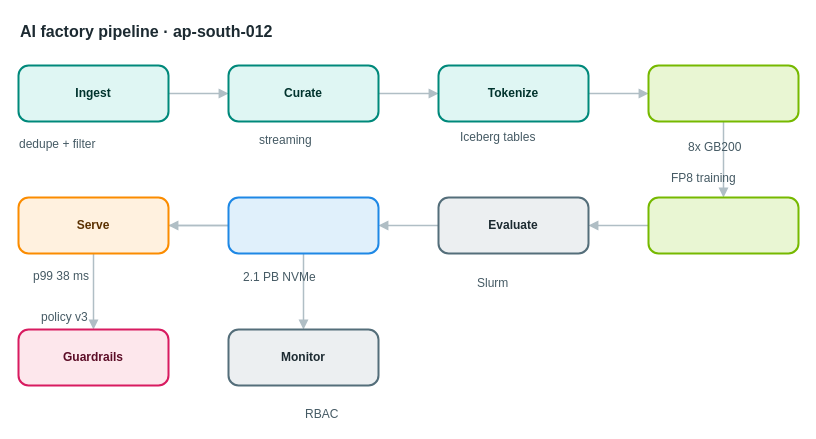
The diagram is 816 pixels wide and 439 high, and some of its shapes have lost their labels. Each missing label, with the box of its shape:
Fine-tune: (647, 196, 799, 254)
Model registry: (227, 196, 379, 254)
Pretrain: (647, 64, 799, 122)
